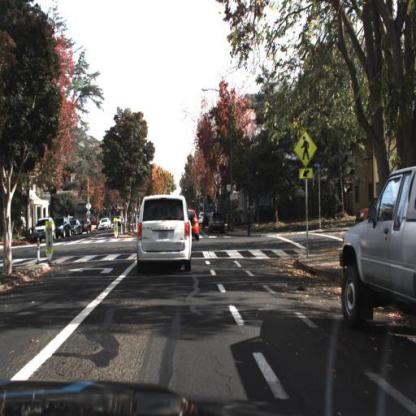car: (336, 158, 416, 343), (136, 192, 196, 276), (353, 195, 380, 238), (355, 195, 378, 226), (185, 205, 202, 241), (33, 217, 56, 242), (251, 203, 274, 227), (53, 215, 74, 241), (207, 210, 228, 235), (55, 215, 73, 240), (68, 218, 83, 241), (210, 211, 225, 234), (78, 217, 92, 235), (99, 216, 113, 232), (98, 218, 113, 232)
pedestrian: (244, 205, 255, 237), (246, 204, 253, 236)
